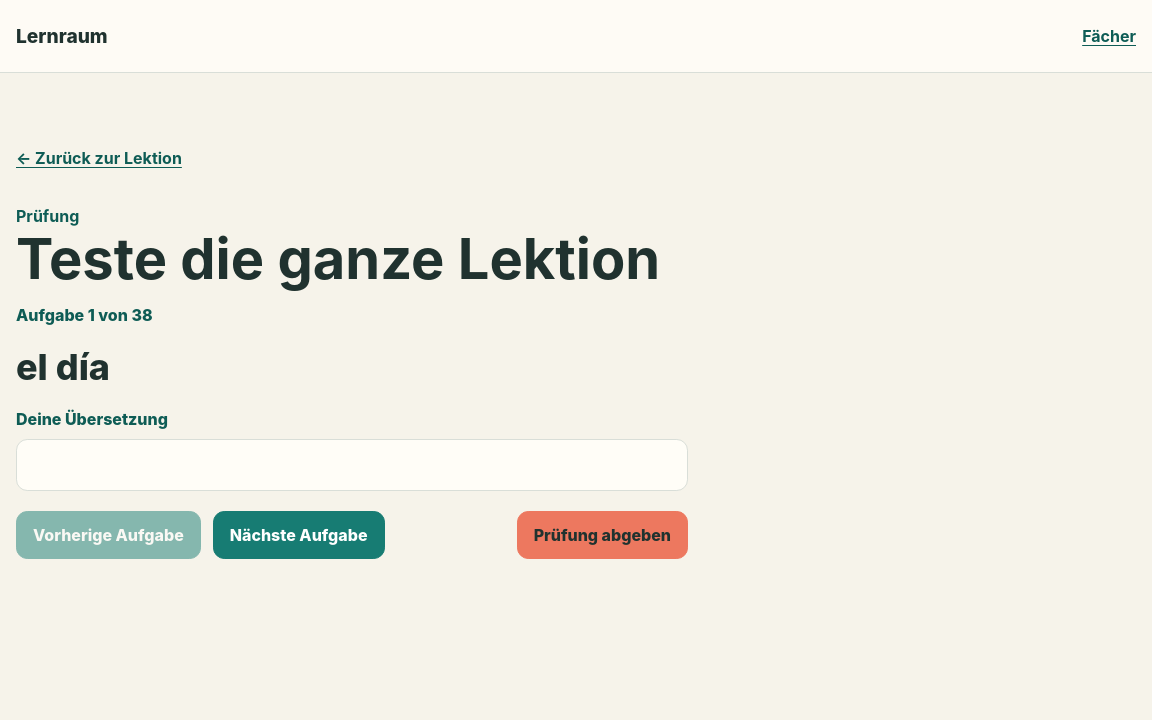
Test case: ExamMode › allows moving past an empty answer without treating it as feedback
expect the field labelled "Deine Übersetzung" is empty: met, box [16,438,688,490]
Click the button "Nächste Aufgabe" at (299, 534), box [213,510,385,558]
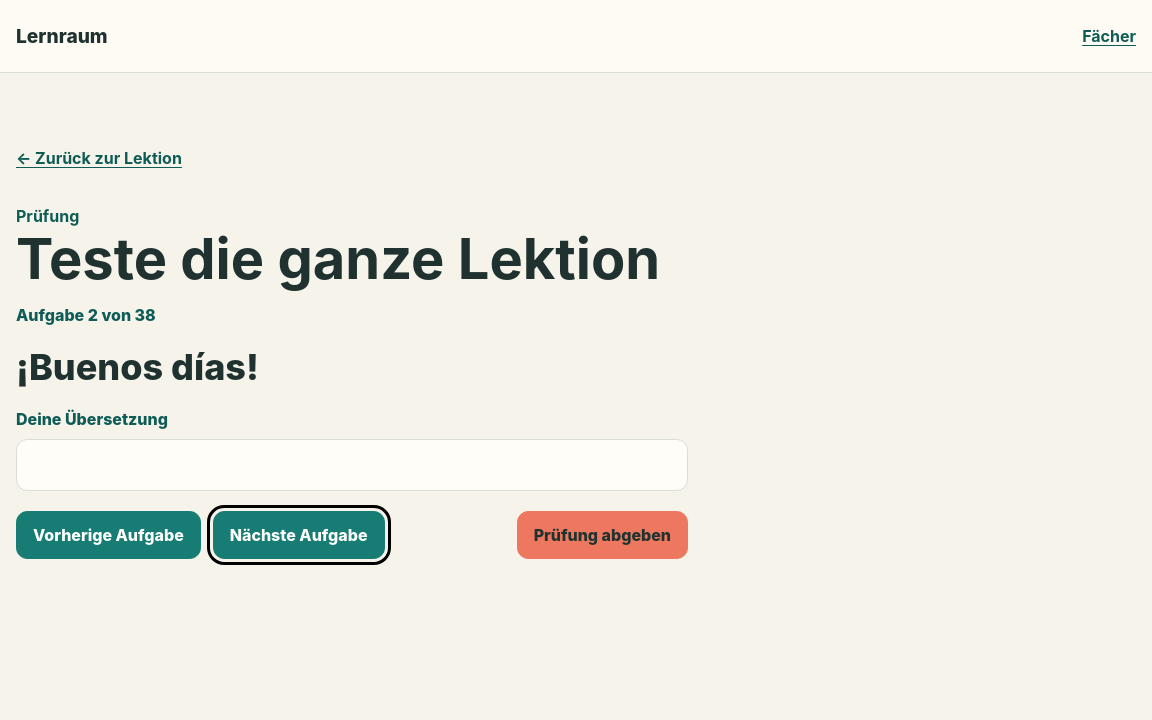
expect the text "Aufgabe 2 von 38" is shown: met, box [16,305,156,325]
